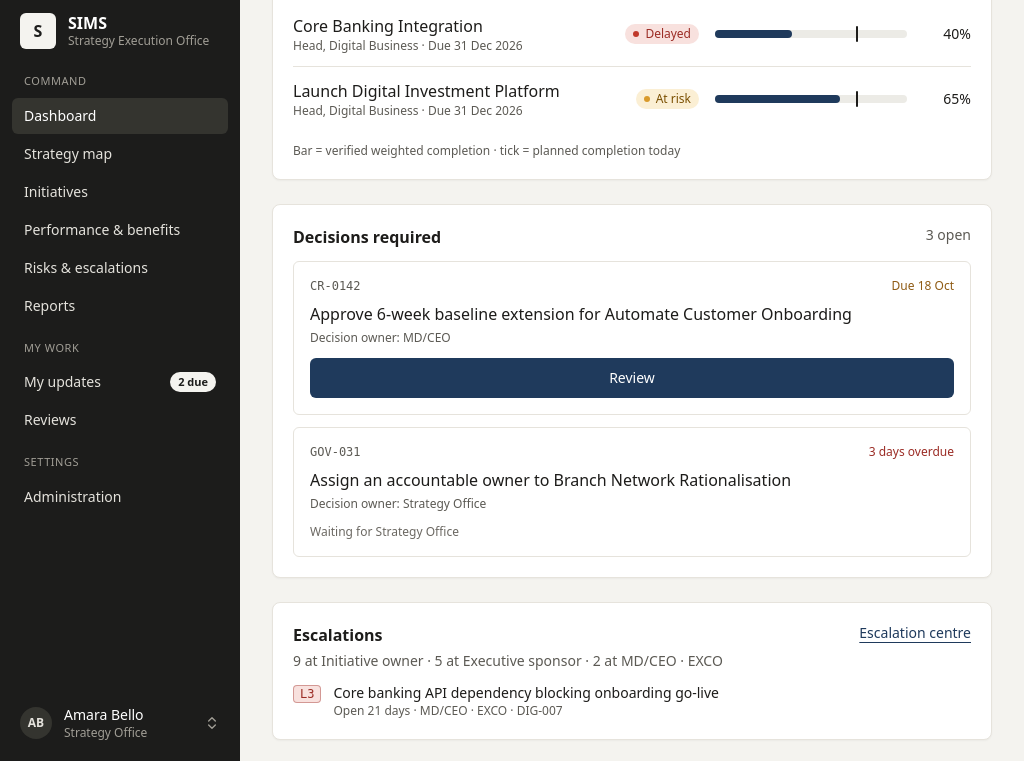
Test: Command Centre › shows why a decision failed without closing the dialog
The image size is (1024, 761).
(page scrolled)
Click the button with aria-label "Review CR-0142" at (632, 378), box [310, 358, 954, 398]
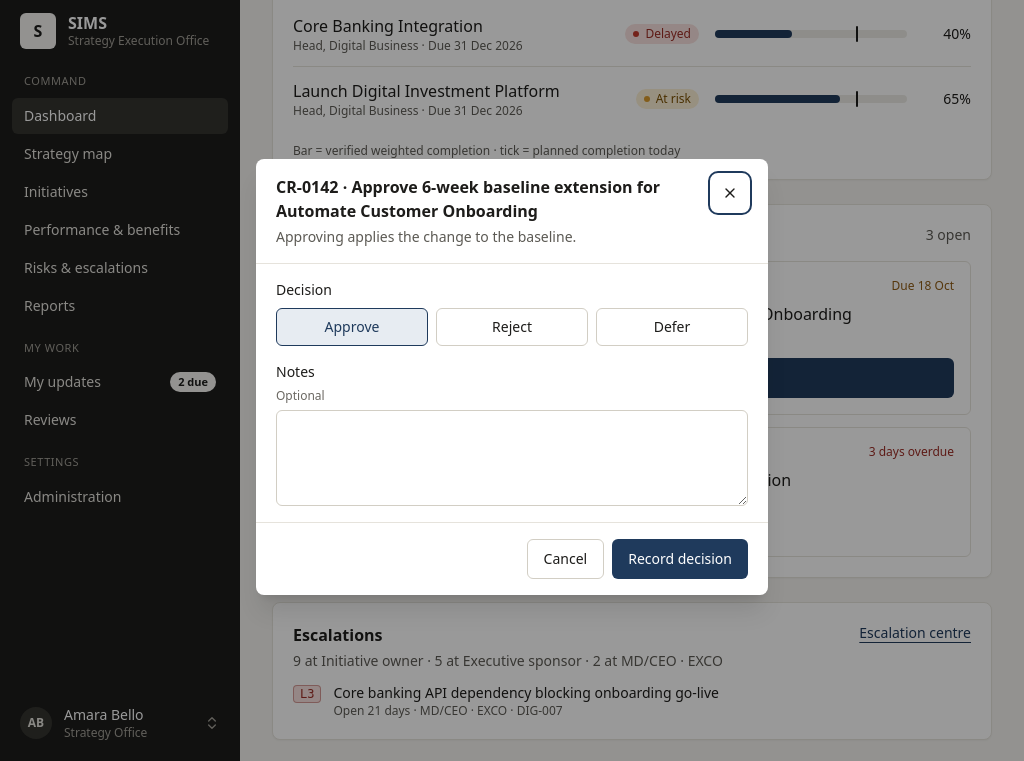
Click the button "Record decision" at (680, 559), box [612, 539, 748, 579]
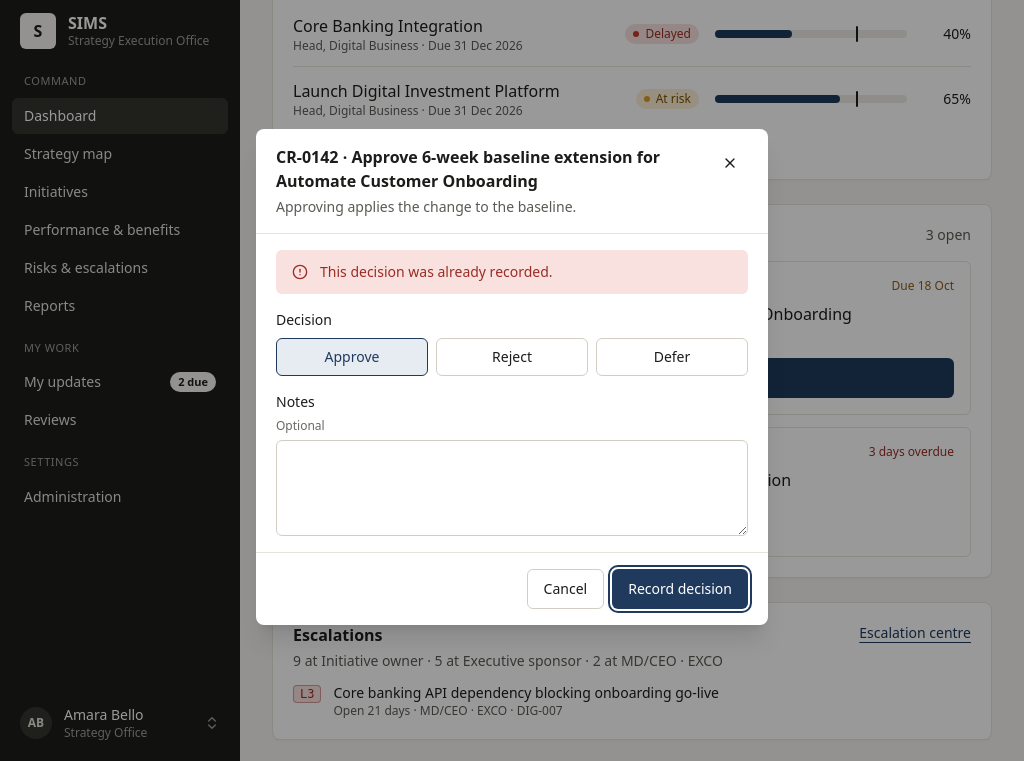
Result: the message reads "This decision was already recorded." at [320, 262, 553, 281]
